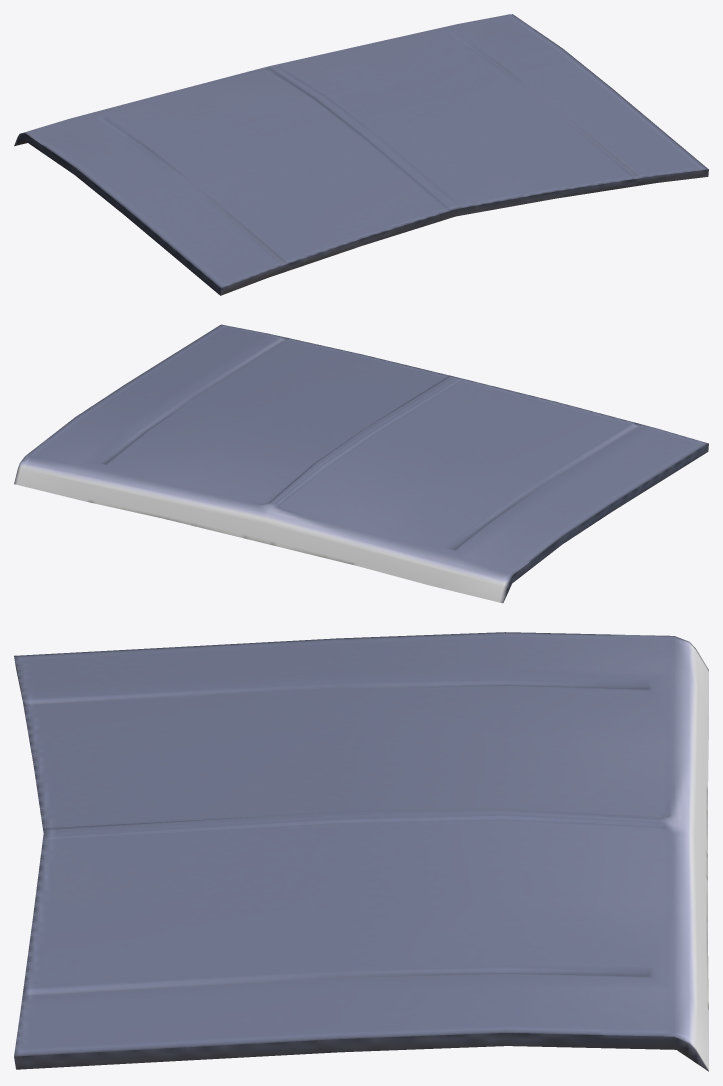
The model's file is FordExplorerHood_WorldItem.fbx.
The picture shows the model from 3 angles, top to bottom: view 1: azimuth 30°, elevation 25°; view 2: azimuth 150°, elevation 25°; view 3: azimuth 270°, elevation 25°; orthographic projection. The views are drawn at different scales.
Parts seen in each view (by area): view 1: Hood_obj; view 2: Hood_obj; view 3: Hood_obj.
Boxes of the visible parts, <box> form: Hood_obj: <box>14,14,708,295</box>; Hood_obj: <box>14,324,708,603</box>; Hood_obj: <box>14,632,708,1071</box>.
Size of the model in its own units: 1.97 by 0.1344 by 1.44.
